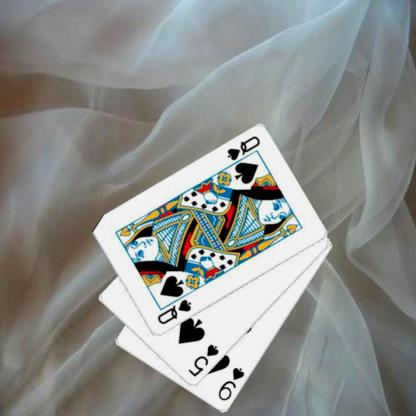5S: (186, 342, 220, 378)
9S: (216, 365, 246, 403)
QS: (154, 297, 193, 326), (224, 134, 262, 162)
